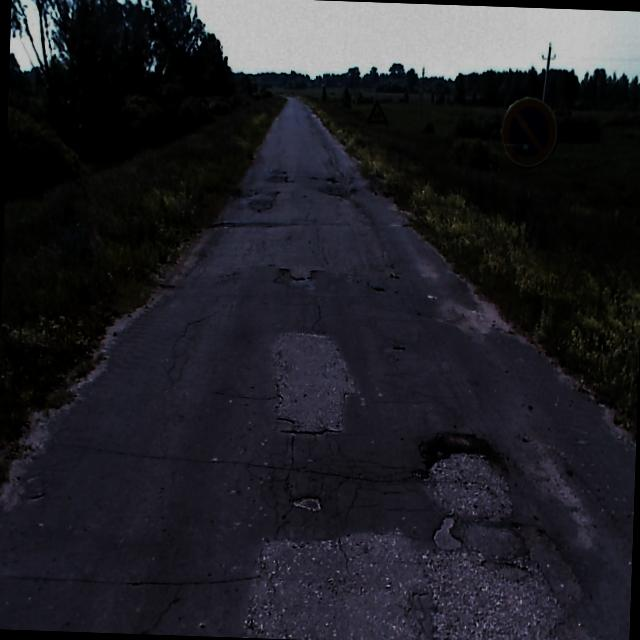road: (0, 95, 635, 640)
